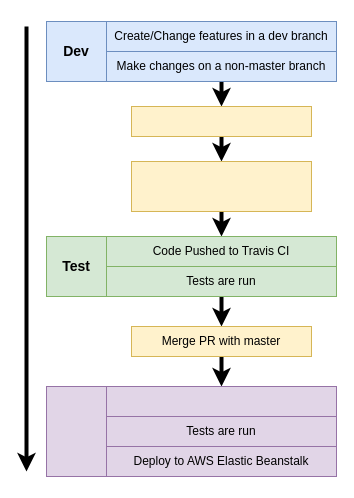
Some shapes in this 354 by 498 pixel diagram are drawn without their labels. The shapes that lost their labels are listed below. From the top down, each one's centre as x and y in pixels, then its label:
At [221,121]: "Push to github".
At [221,186]: "Create Pull Request to merge with master".
At [221,401]: "Code pushed to Travis CI once again".
At [76,431]: "Prod".
